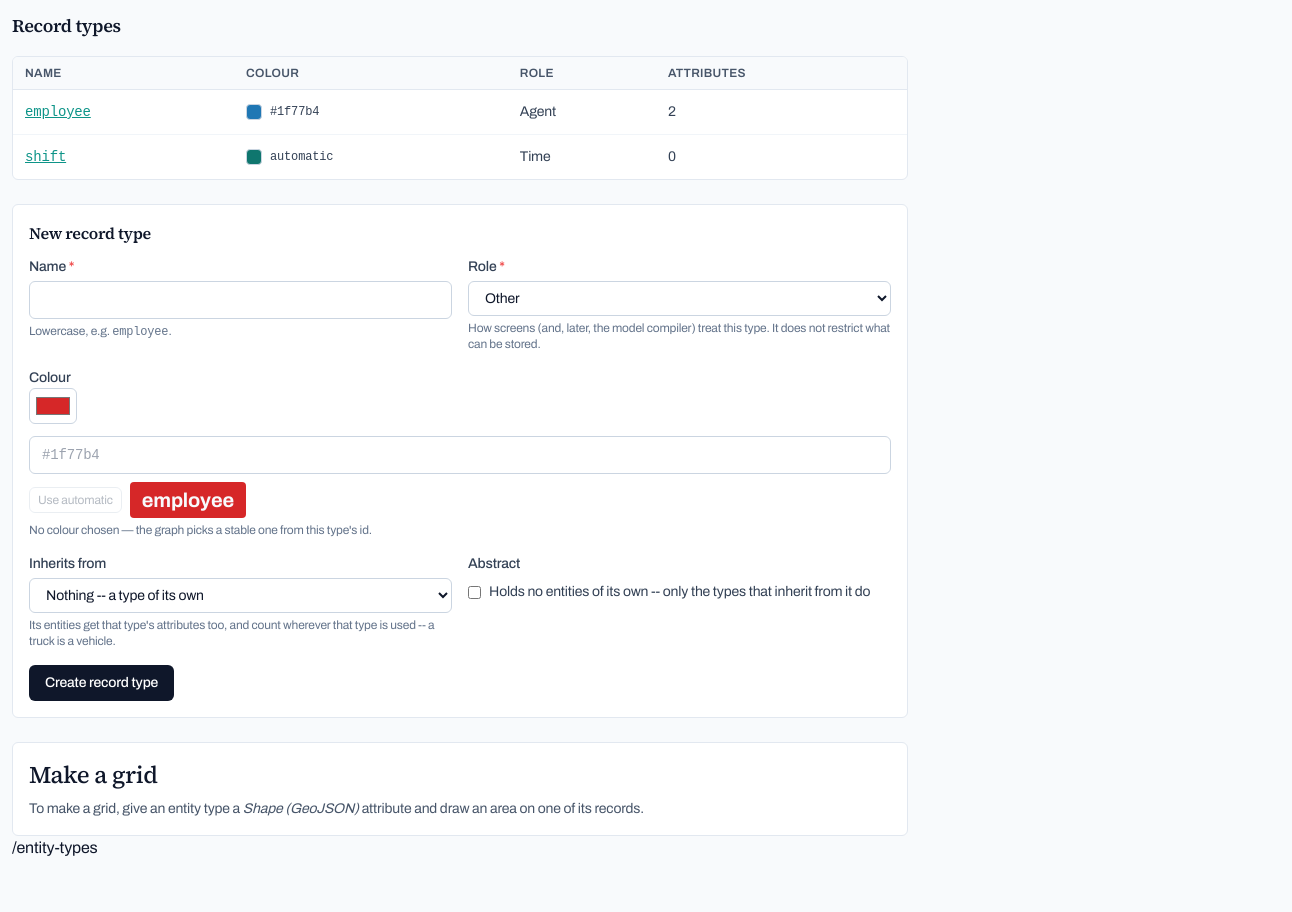
Test: EntityTypes list page › refuses to create a type whose colour box holds junk, and says so in the summary
Check: the link "employee" is shown, box [25, 104, 91, 120]
Step 1. Type "unit" into the field labelled "Name *" → [240, 300], box [29, 281, 452, 319]
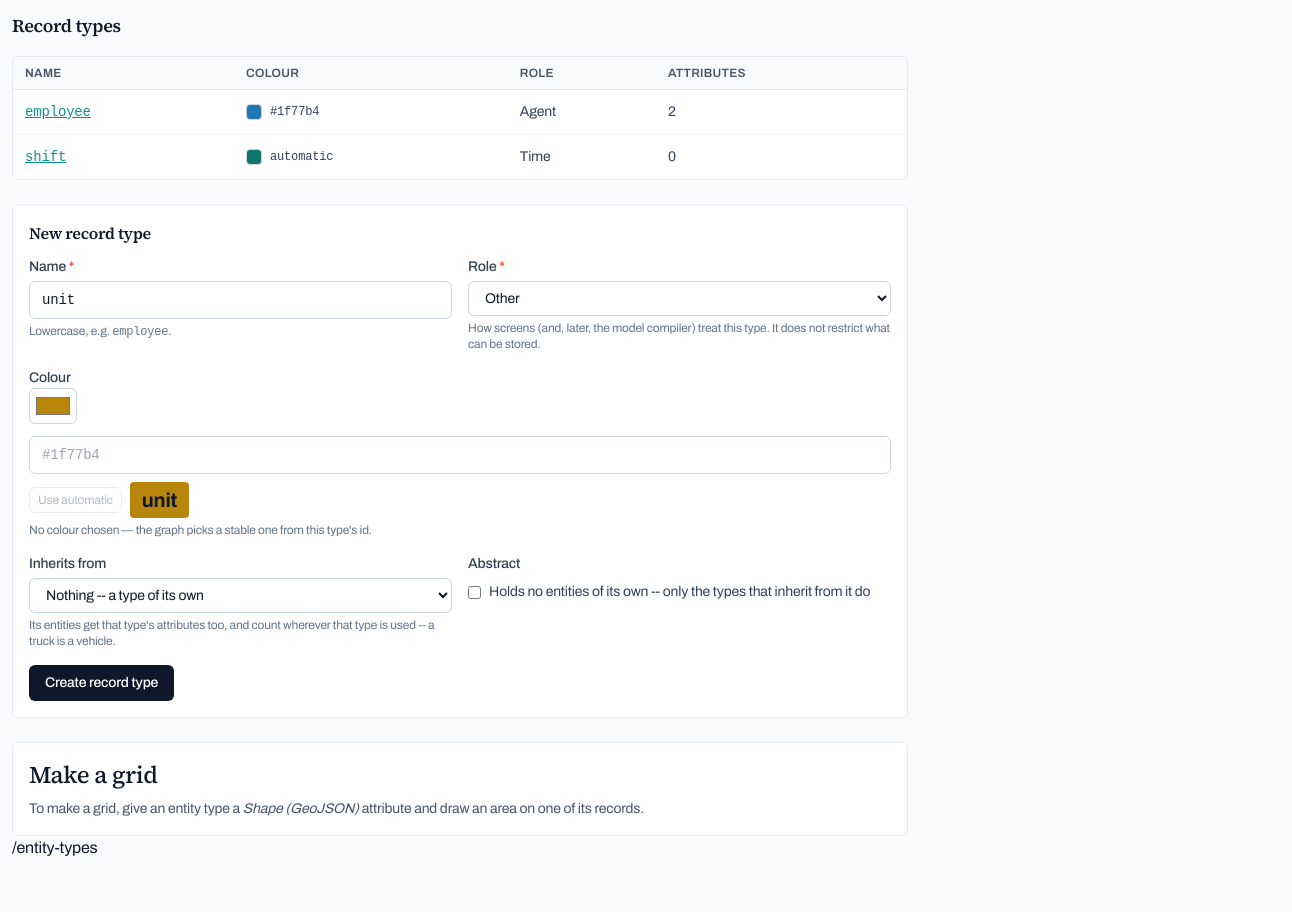
Step 2. Type "banana" into the field with test id "colour-hex" → [460, 455], box [29, 436, 891, 474]
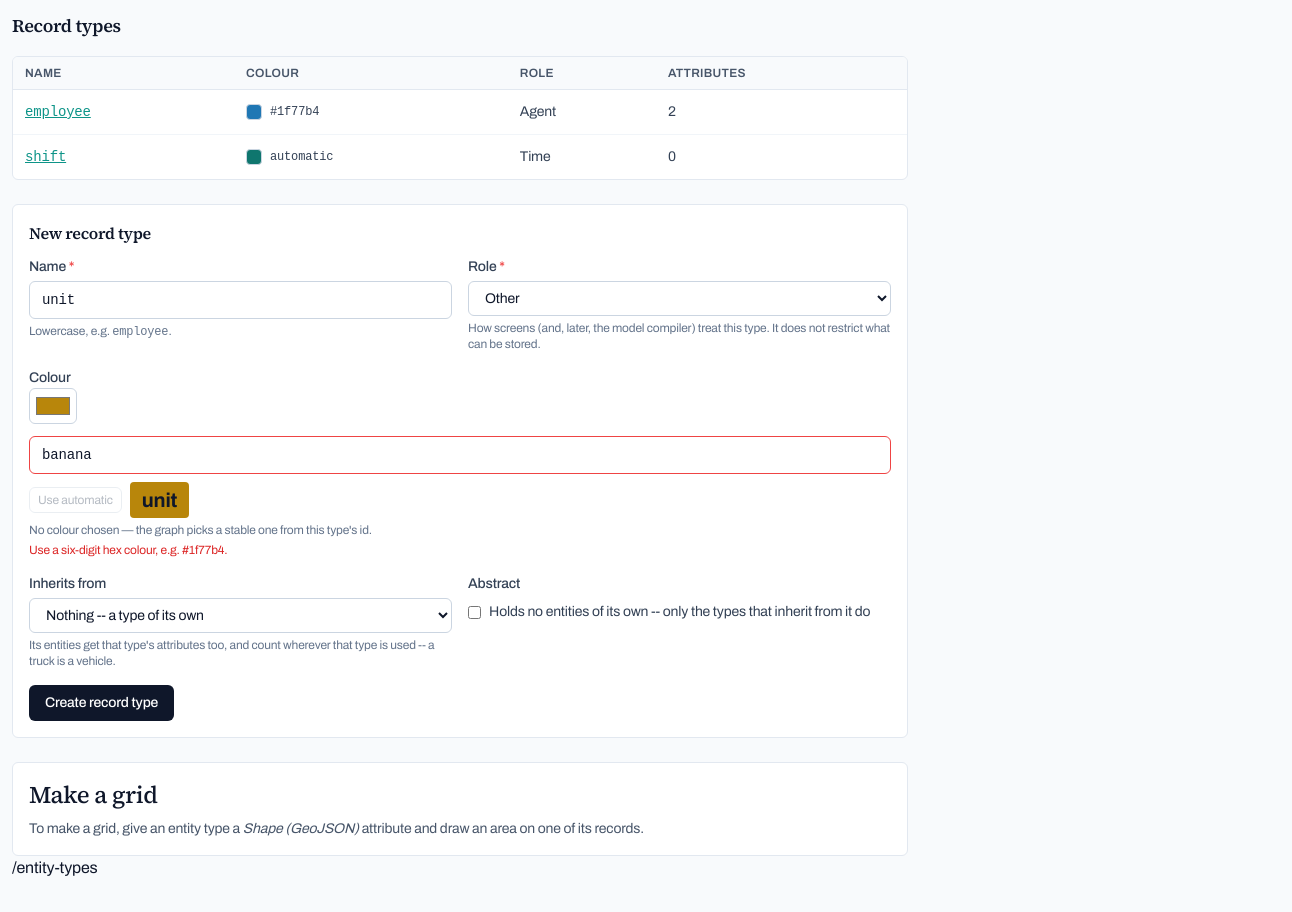
Step 3. Click the button "Create record type" → [102, 703], box [29, 685, 174, 721]
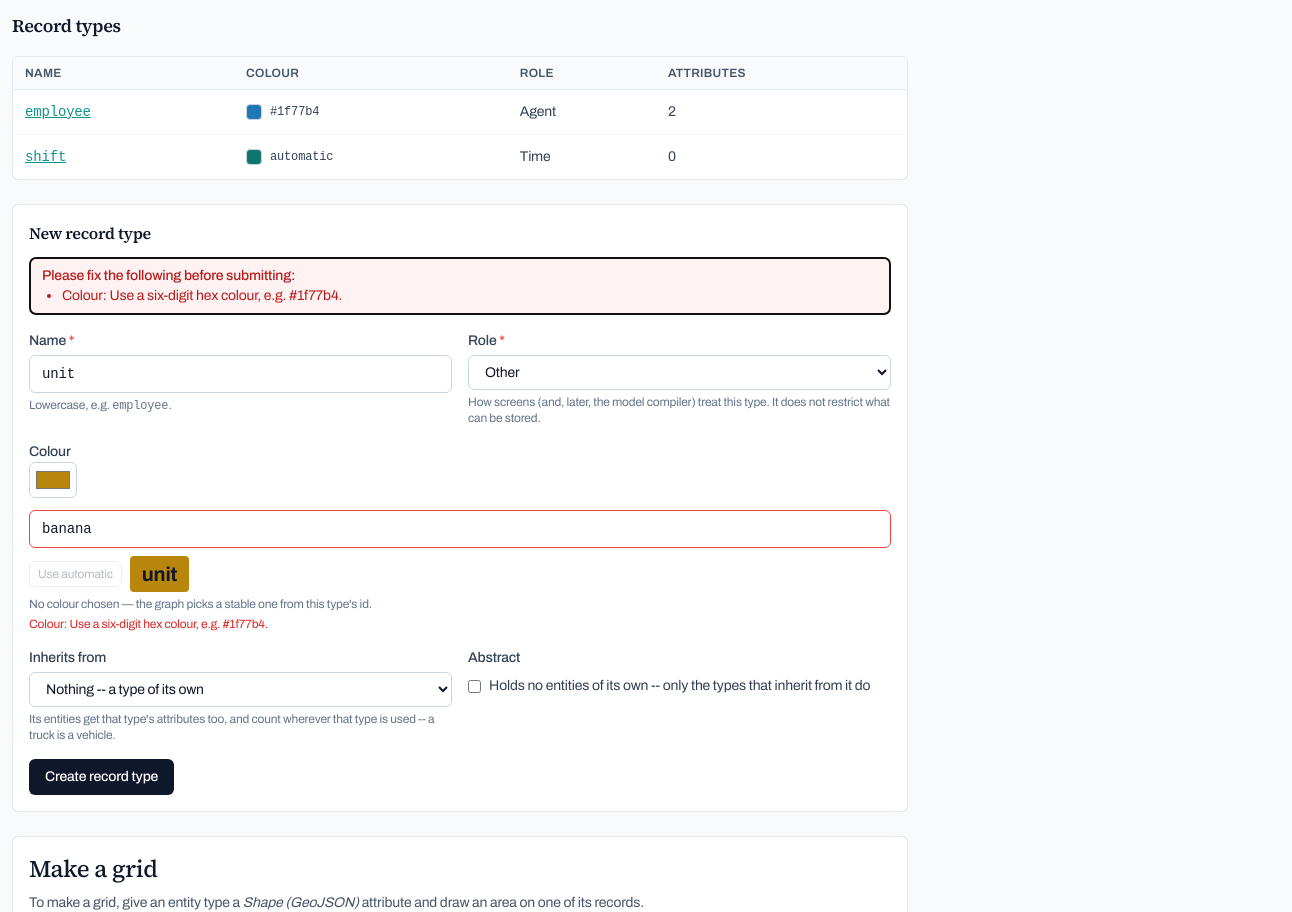
Check: the message with test id "form-errors" shows "Colour: Use a six-digit hex colour", box [62, 288, 342, 303]
